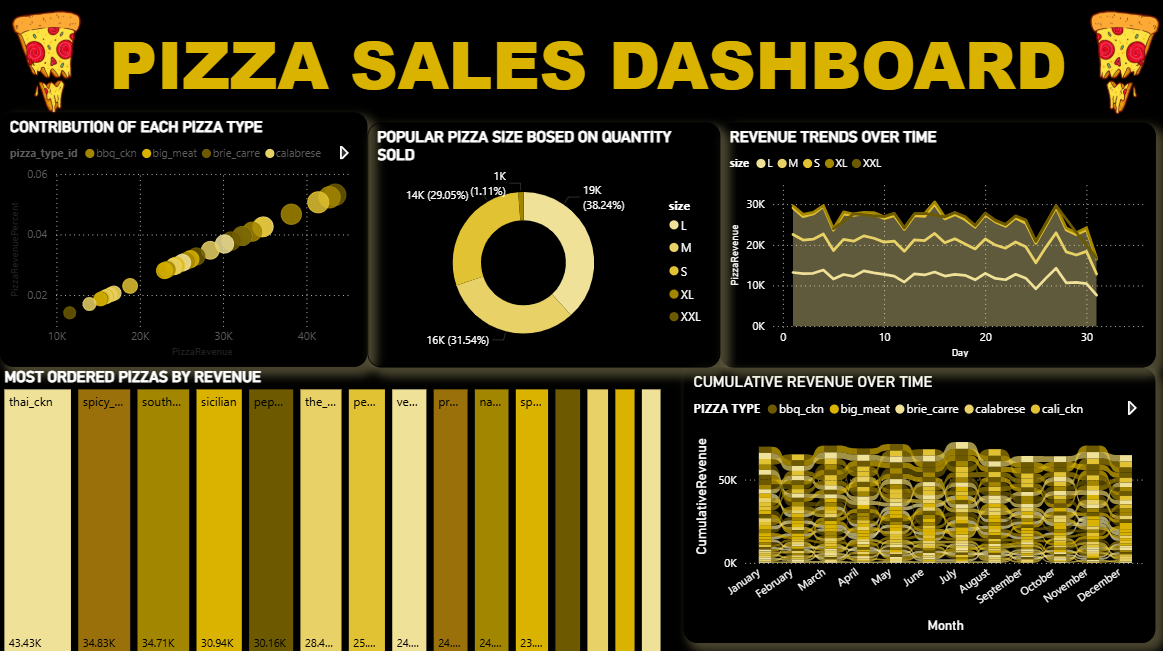

Layout of this report page (visuals, bound fields, positions):
{"tool":"powerbi","page":{"name":"ADVANCED","canvas":[1280,720],"ordinal":1},"visuals":[{"type":"image","box":[0,0,104.1,134.1],"z":0},{"type":"image","box":[1187,0,93.3,134.5],"z":1000},{"type":"textbox","box":[104.8,13.1,1082.4,120.8],"z":2000},{"type":"scatterChart","title":"CONTRIBUTION OF EACH PIZZA TYPE","fields":{"X":["order_details.PizzaRevenue"],"Y":["order_details.PizzaRevenuePercent"],"Size":["order_details.PizzaRevenue"],"Series":["pizzas.pizza_type_id"]},"box":[0,123.7,403,279.3],"z":3000},{"type":"ribbonChart","title":"CUMULATIVE REVENUE OVER TIME","fields":{"Category":["orders.date.Variation.Date Hierarchy.Month"],"Y":["order_details.CumulativeRevenue"],"Series":["pizzas.pizza_type_id"]},"box":[750.7,403,517.9,302.6],"z":4000},{"type":"treemap","title":"MOST ORDERED PIZZAS BY REVENUE","fields":{"Group":["pizzas.pizza_id","pizzas.pizza_type_id"],"Values":["order_details.Top3PizzaRevenue"]},"box":[0,403,730.4,317.2],"z":5000},{"type":"stackedAreaChart","title":"REVENUE TRENDS OVER TIME","fields":{"Category":["orders.date.Variation.Date Hierarchy.Day"],"Y":["order_details.PizzaRevenue"],"Series":["pizzas.size"]},"box":[790,133.8,478.7,269.2],"z":6000},{"type":"donutChart","title":"POPULAR PIZZA SIZE BOSED ON QUANTITY SOLD","fields":{"Y":["order_details.TotalQuantitySold"],"Category":["pizzas.size"]},"box":[403,133.8,387,269.2],"z":7000}]}

Visuals, with their boxes in screenshot pixels (x1, y1, x2, y2), scaled from the page's 1280x720 canvas onto the 1163x651 screenshot:
image: (0,0,95,121)
image: (1079,0,1162,122)
textbox: (95,12,1079,121)
"CONTRIBUTION OF EACH PIZZA TYPE" scatterChart: (0,112,366,364)
"CUMULATIVE REVENUE OVER TIME" ribbonChart: (682,364,1153,638)
"MOST ORDERED PIZZAS BY REVENUE" treemap: (0,364,664,650)
"REVENUE TRENDS OVER TIME" stackedAreaChart: (718,121,1153,364)
"POPULAR PIZZA SIZE BOSED ON QUANTITY SOLD" donutChart: (366,121,718,364)
